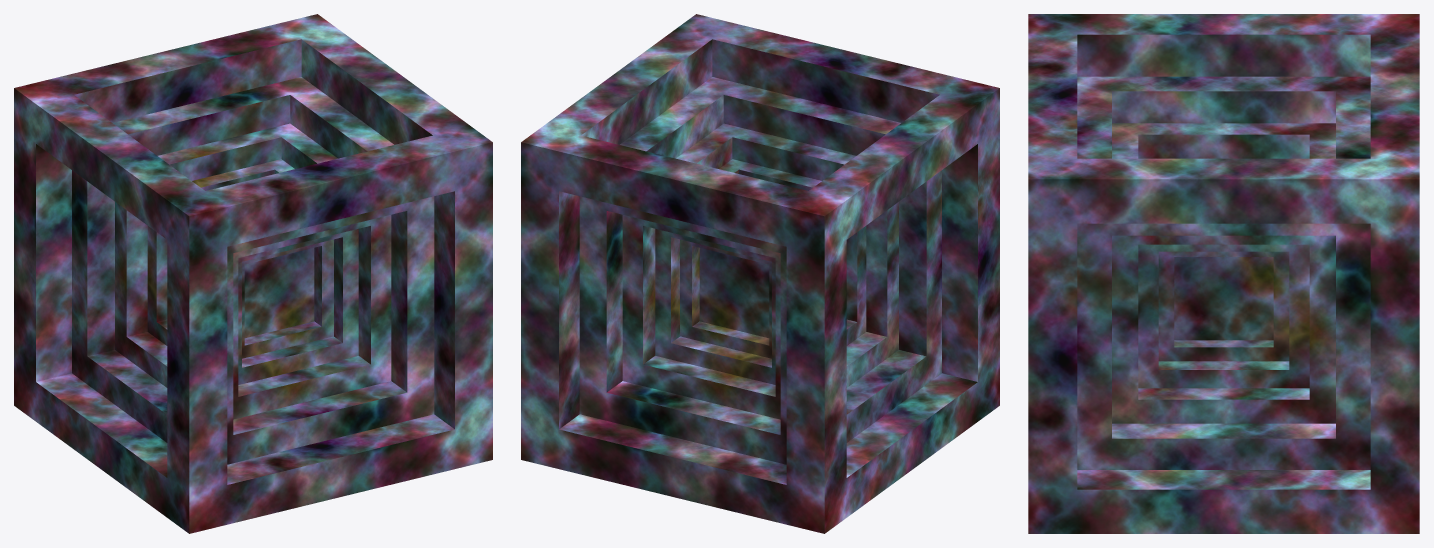
The model's file is 神秘魔方.fbx.
The picture shows the model from 3 angles, left to right: view 1: azimuth 30°, elevation 25°; view 2: azimuth 150°, elevation 25°; view 3: azimuth 270°, elevation 25°; orthographic projection. The views are drawn at different scales.
Parts seen in each view (by area): view 1: 魚類食物; view 2: 魚類食物; view 3: 魚類食物.
Part boxes in pixels (x1,y1,x2,y2): 魚類食物: (14,14,492,533); 魚類食物: (521,14,999,533); 魚類食物: (1028,14,1419,533).
Size of the model in its own units: 118 by 118 by 118.
1 material, 1 textured.
